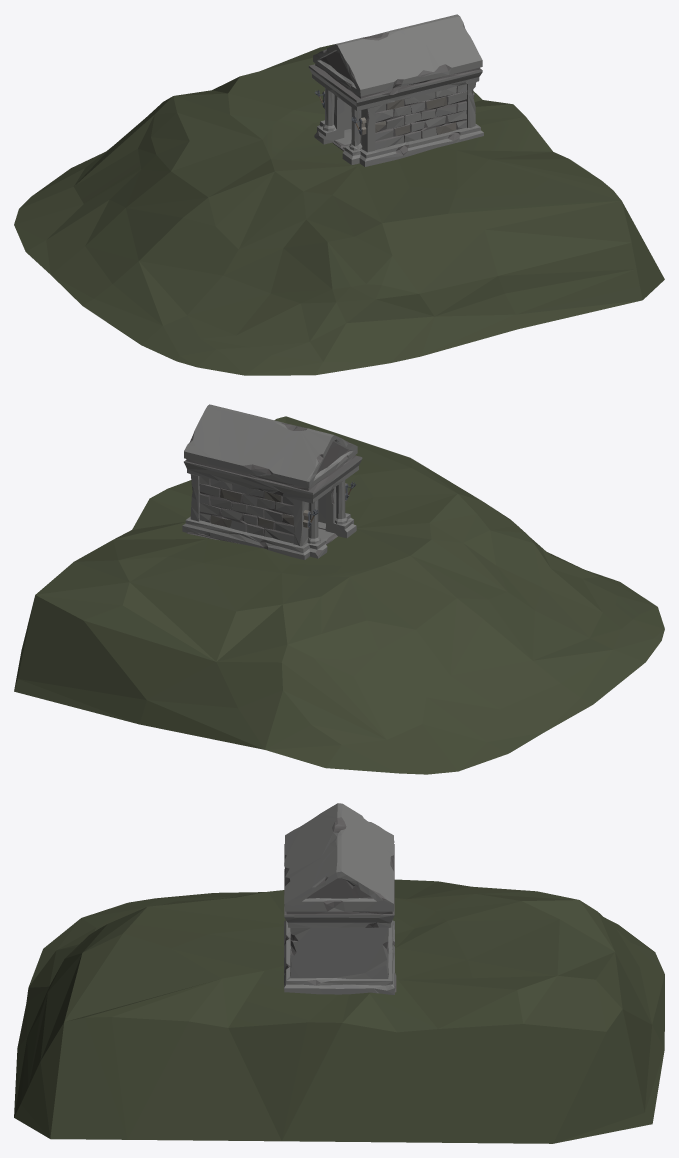
The model's file is graveyardScene.glb.
3 views of the same model, one above another, from view 1: azimuth 30°, elevation 25°; view 2: azimuth 150°, elevation 25°; view 3: azimuth 270°, elevation 25° (orthographic). The views are drawn at different scales.
Visible parts, largest first — view 1: SM_Env_Grass_Mound_Ramp_01, SM_Env_Entrance_Crypt_01; view 2: SM_Env_Grass_Mound_Ramp_01, SM_Env_Entrance_Crypt_01; view 3: SM_Env_Grass_Mound_Ramp_01, SM_Env_Entrance_Crypt_01.
Boxes of the visible parts, <box> form: SM_Env_Grass_Mound_Ramp_01: <box>14,44,664,375</box>; SM_Env_Entrance_Crypt_01: <box>308,14,483,166</box>; SM_Env_Grass_Mound_Ramp_01: <box>14,416,664,774</box>; SM_Env_Entrance_Crypt_01: <box>182,404,362,559</box>; SM_Env_Grass_Mound_Ramp_01: <box>14,879,664,1143</box>; SM_Env_Entrance_Crypt_01: <box>284,803,394,994</box>.
Size of what is drawn, in the model's own units: 10.84 by 4.45 by 11.4.
2 materials, 1 textured.
